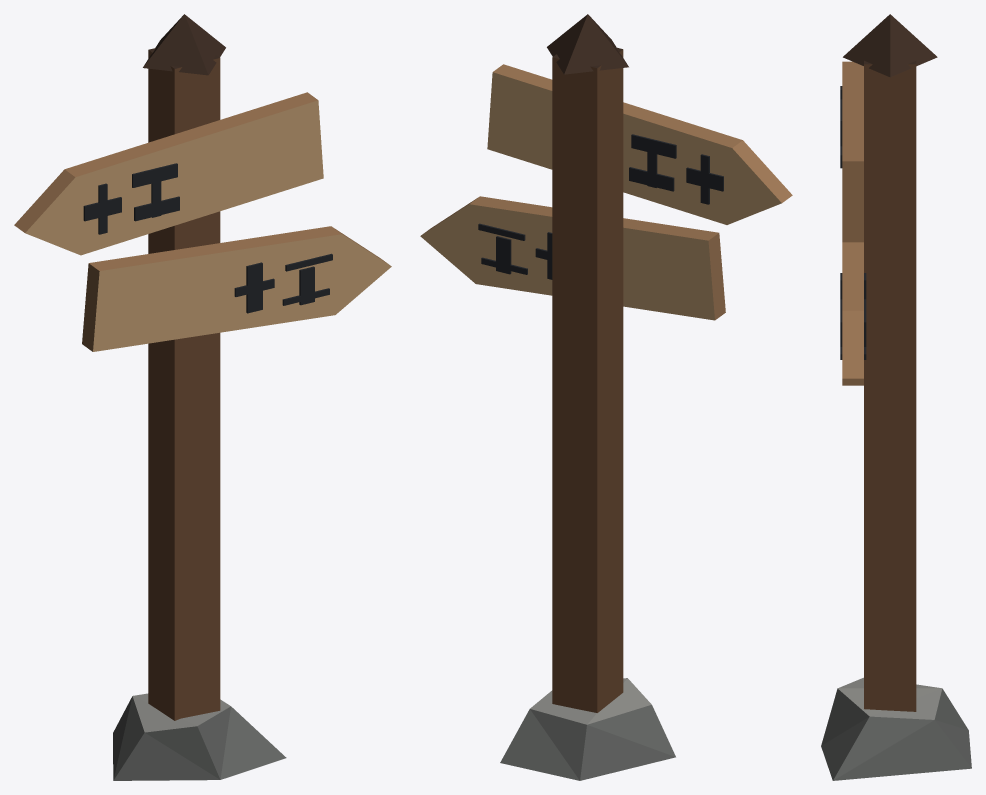
File: signpost.fbx
The picture shows the model from 3 angles, left to right: view 1: azimuth 30°, elevation 25°; view 2: azimuth 150°, elevation 25°; view 3: azimuth 270°, elevation 25°; orthographic projection.
Parts seen in each view (by area): view 1: signpost; view 2: signpost; view 3: signpost.
Boxes of the visible parts, left/top/right/bottom form: signpost: left=14, top=14, right=391, bottom=780; signpost: left=420, top=14, right=792, bottom=780; signpost: left=821, top=14, right=971, bottom=780.
Size of the model in its own units: 0.9642 by 1.86 by 0.3478.
